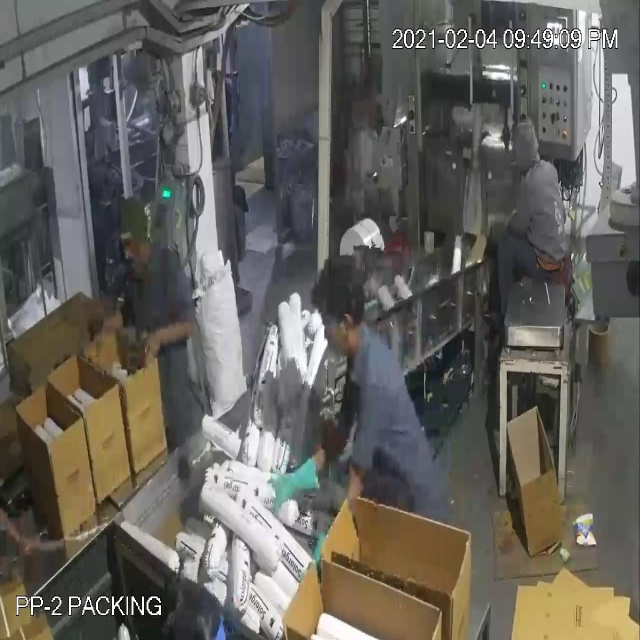Guantes: (257, 448, 326, 517)
Sin_guantes: (135, 308, 208, 372)
